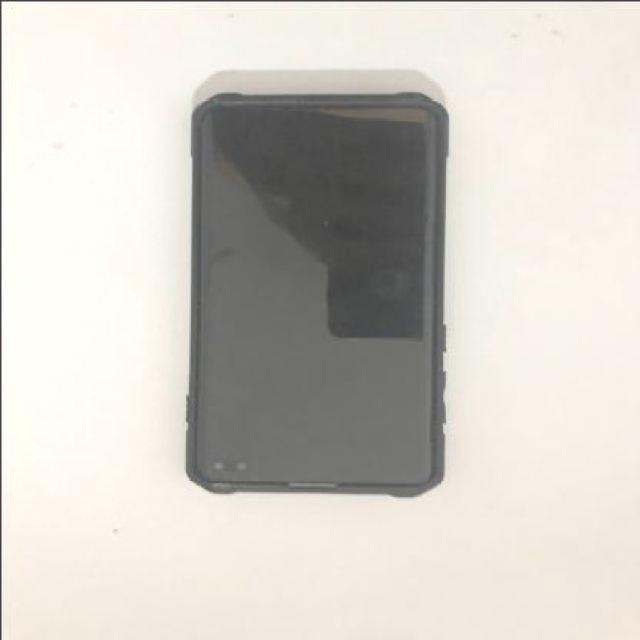phone: (184, 92, 450, 496)
